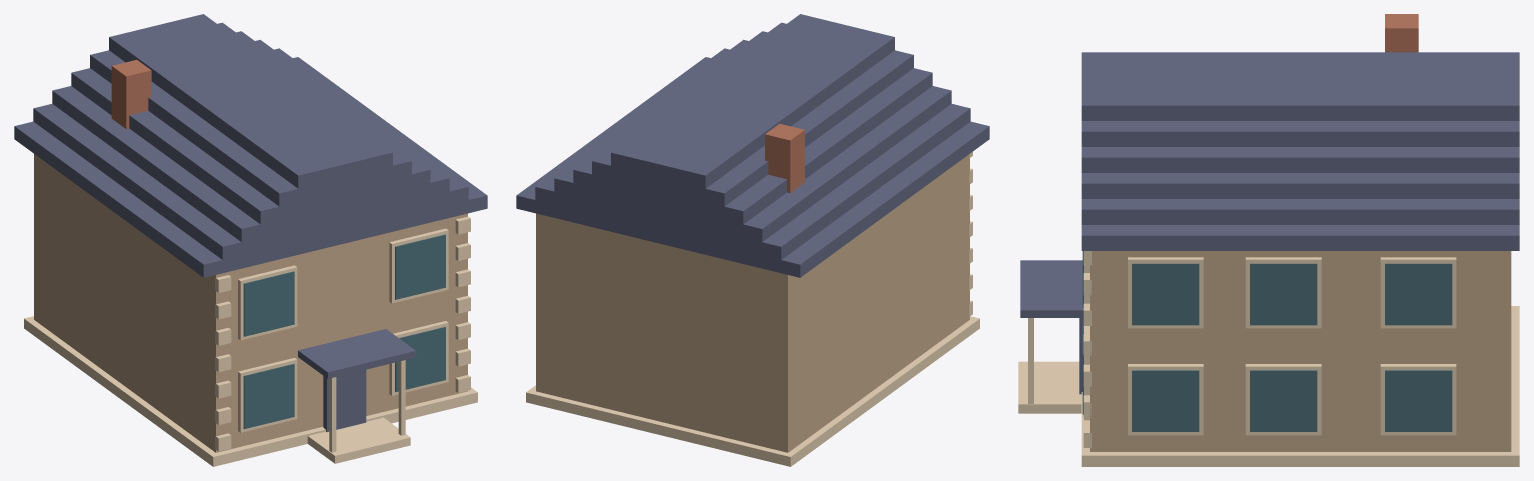
The model's file is detached-house-voxel.glb.
The picture shows the model from 3 angles, left to right: view 1: azimuth 30°, elevation 25°; view 2: azimuth 150°, elevation 25°; view 3: azimuth 270°, elevation 25°; orthographic projection. The views are drawn at different scales.
Visible parts, largest first — view 1: detached-house-voxel; view 2: detached-house-voxel; view 3: detached-house-voxel.
Boxes of the visible parts, left/top/right/bottom form: detached-house-voxel: left=14, top=14, right=487, bottom=466; detached-house-voxel: left=516, top=14, right=989, bottom=466; detached-house-voxel: left=1018, top=14, right=1519, bottom=466.
Size of the model in its own units: 9 by 8.6 by 11.9.
